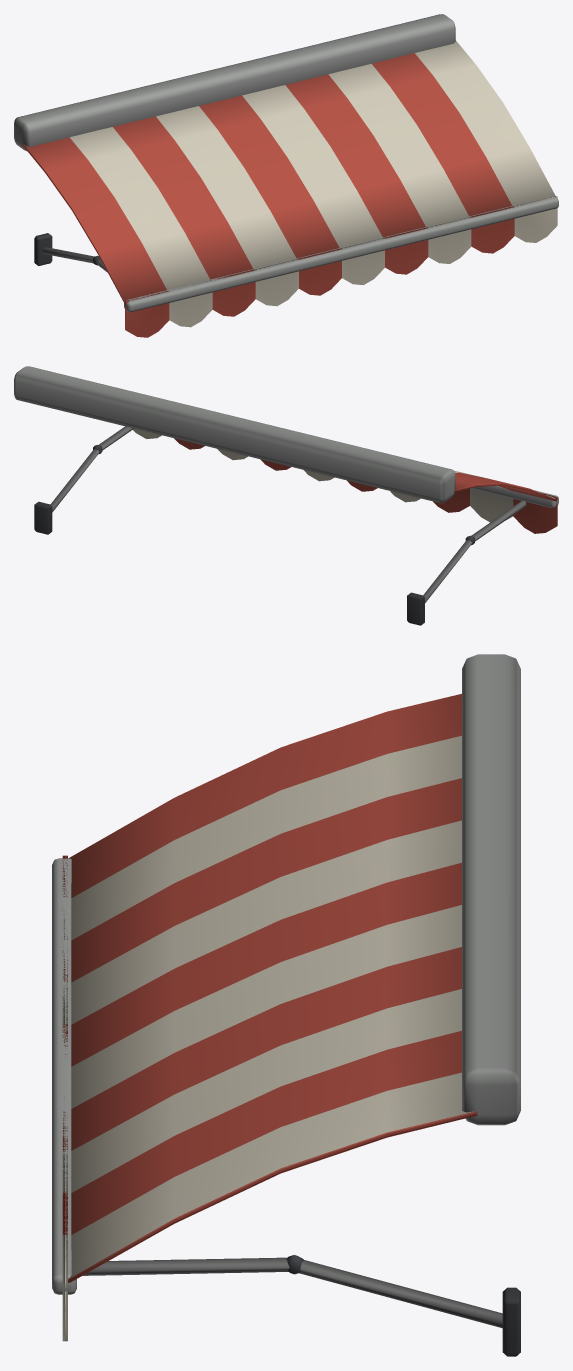
The model's file is Awning.fbx.
3 views of the same model, one above another, from view 1: azimuth 30°, elevation 25°; view 2: azimuth 150°, elevation 25°; view 3: azimuth 270°, elevation 25° (orthographic). The views are drawn at different scales.
Visible parts, largest first — view 1: Awning; view 2: Awning; view 3: Awning.
Part boxes in pixels (x1,y1,x2,y2): Awning: (14, 14, 558, 337); Awning: (14, 366, 558, 625); Awning: (52, 654, 520, 1356).
Size of the model in its own units: 2.2 by 0.75 by 1.03.
